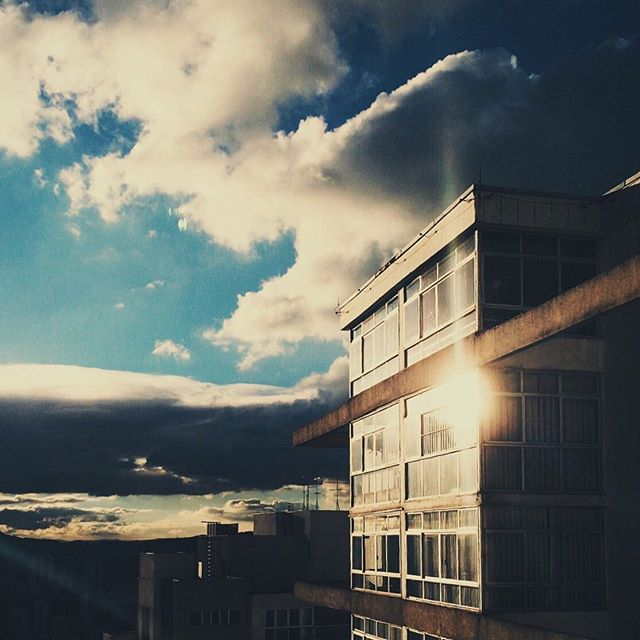building: (345, 185, 622, 640), (137, 502, 340, 640)
sky: (1, 1, 351, 502)
